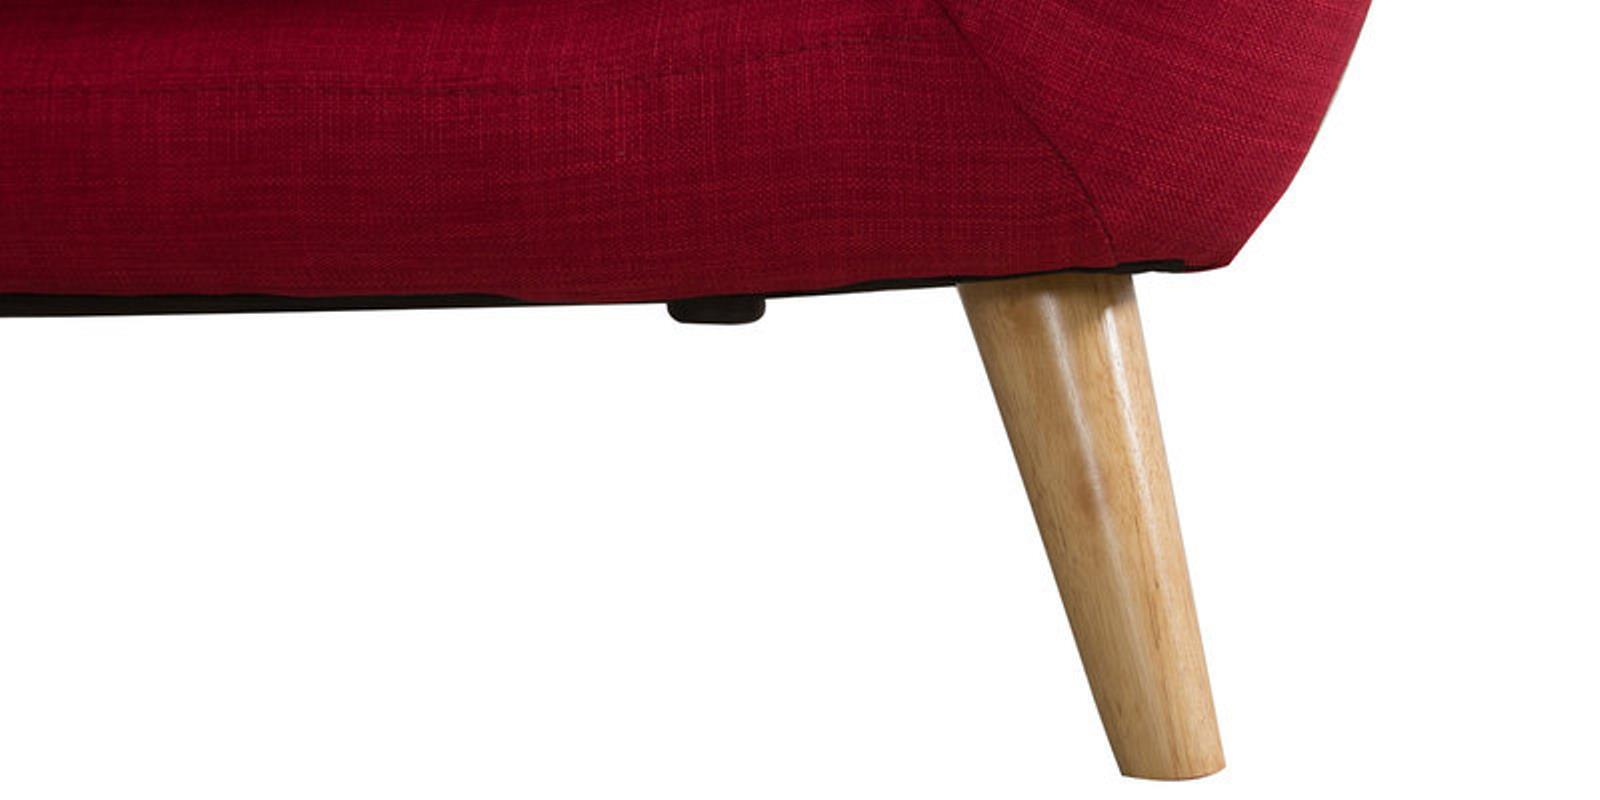Managua Three Seater Sofa in Red Colour by CasaCraft: (1, 1, 1372, 782)
